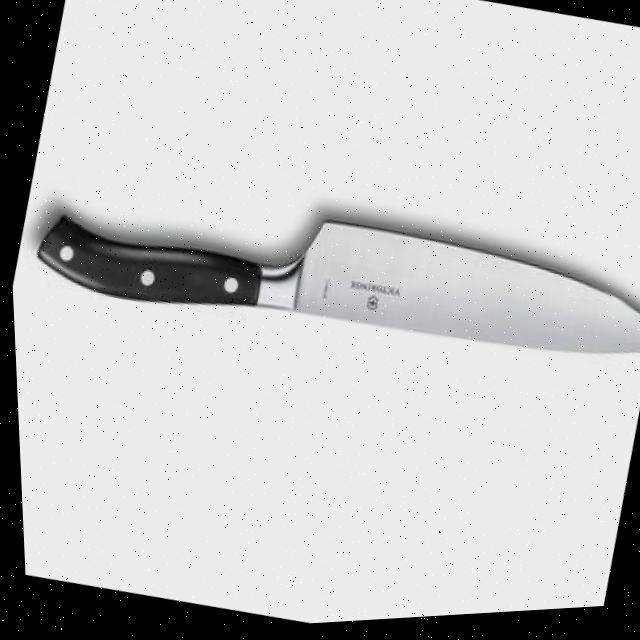knife: (23, 143, 640, 433)
